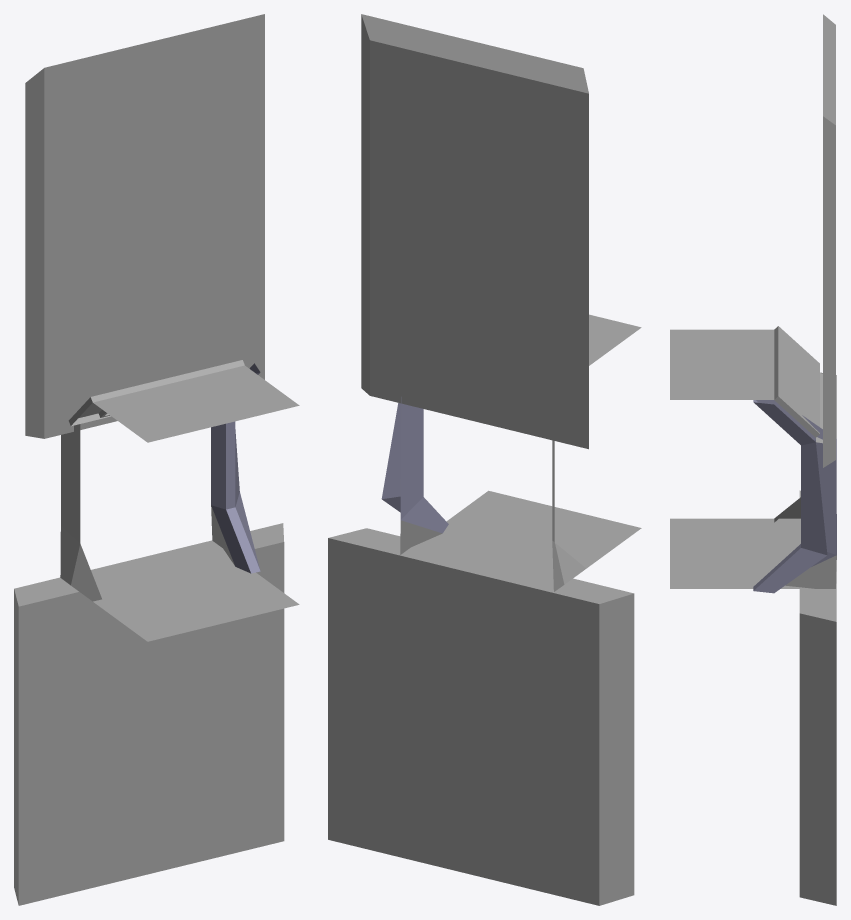
Rendered from tunnel_side_elevator_door_1.fbx.
The picture shows the model from 3 angles, left to right: view 1: azimuth 30°, elevation 25°; view 2: azimuth 150°, elevation 25°; view 3: azimuth 270°, elevation 25°; orthographic projection. The views are drawn at different scales.
Visible parts, largest first — view 1: tunnel_side_elevator_door1; view 2: tunnel_side_elevator_door1; view 3: tunnel_side_elevator_door1.
Boxes of the visible parts, box(x1,y1,x2,y2) form: tunnel_side_elevator_door1: box(14, 14, 299, 905); tunnel_side_elevator_door1: box(328, 14, 641, 905); tunnel_side_elevator_door1: box(670, 14, 836, 905).
Size of the model in its own units: 3.73 by 10.3 by 2.
